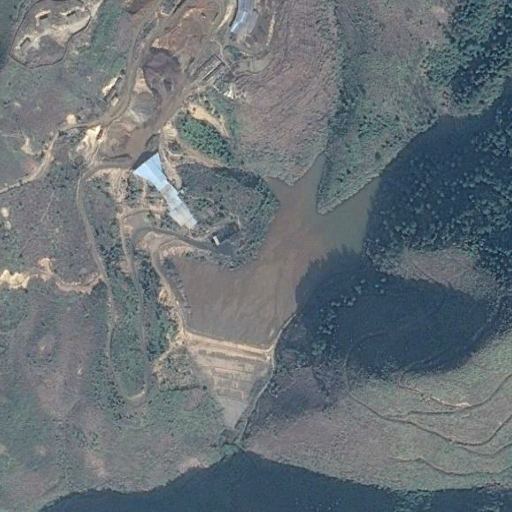tp: (150, 153, 379, 433)
